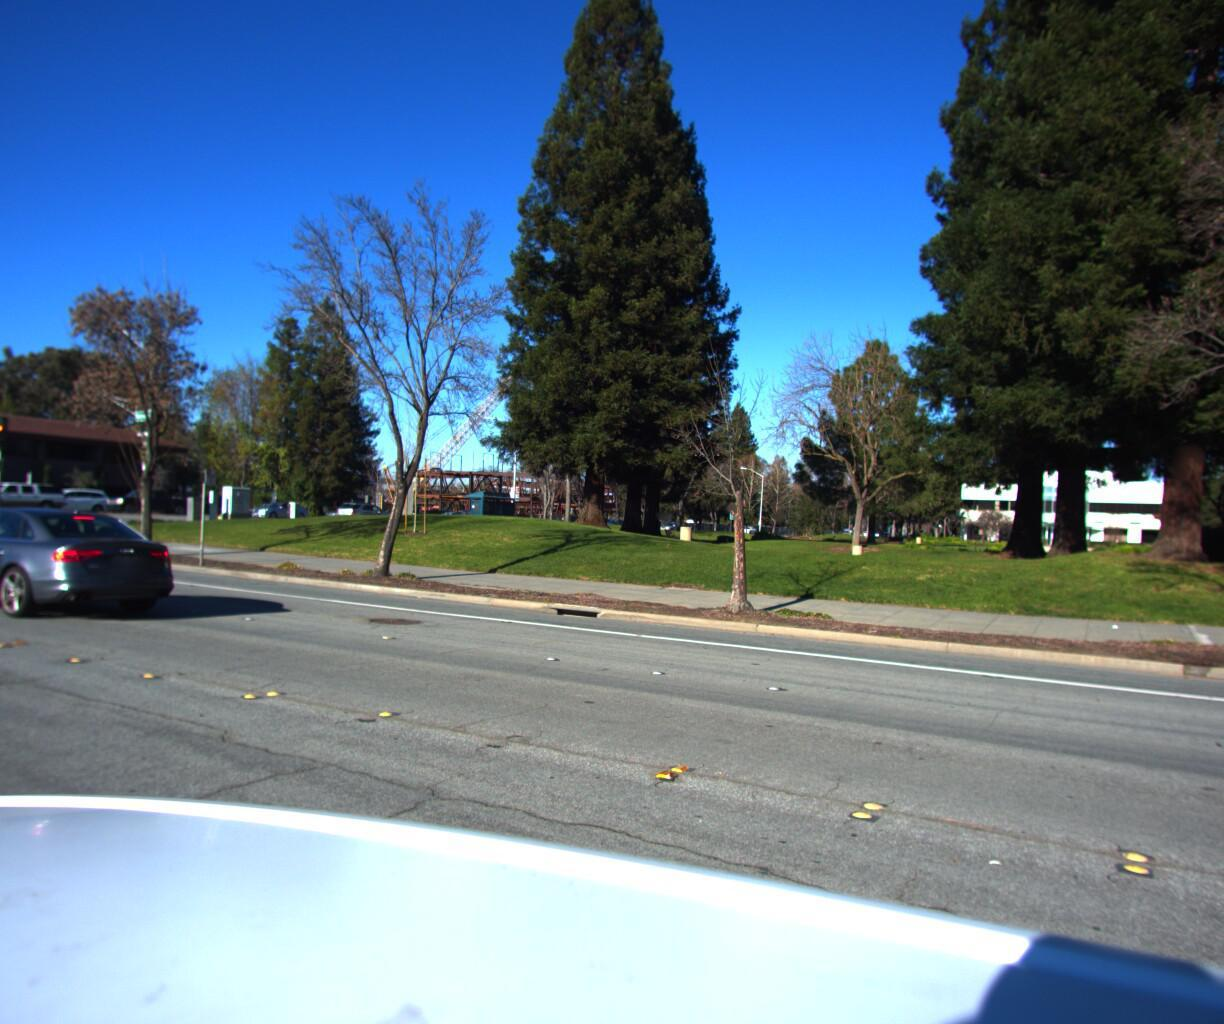car: (98, 482, 198, 514), (17, 483, 114, 514), (246, 495, 312, 521), (333, 495, 401, 520)
